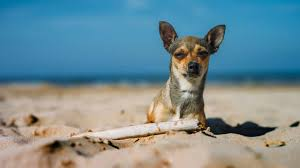Bulldog: (141, 16, 229, 132)
